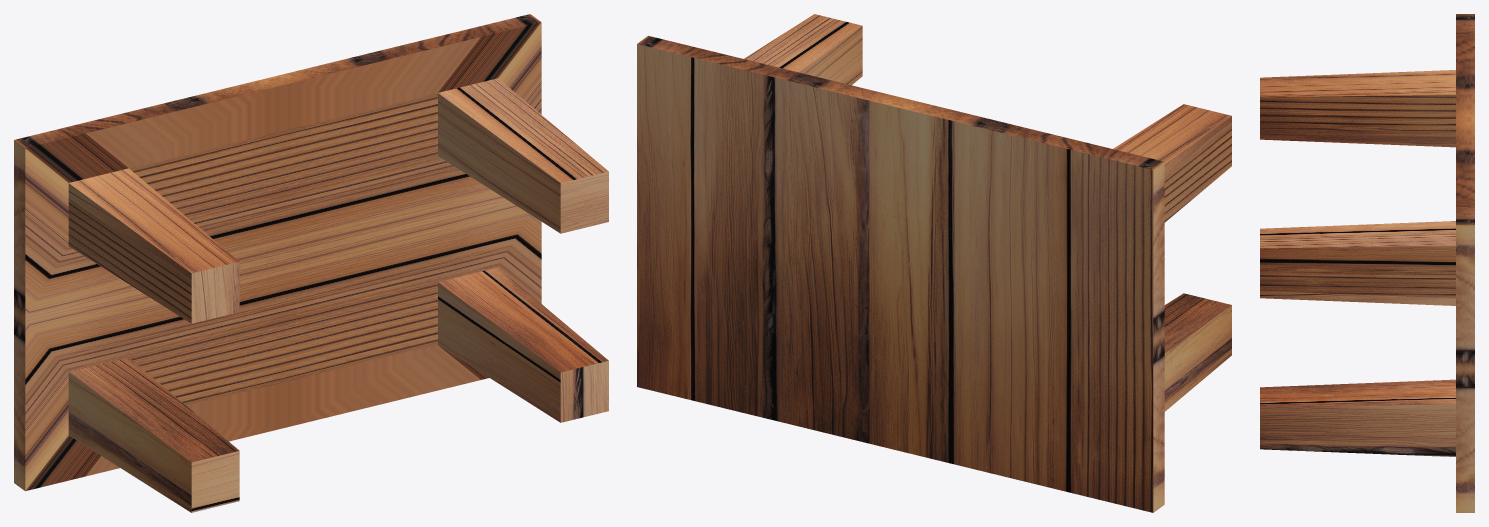
Rendered from table.dae.
3 renders of one model, left to right at view 1: azimuth 30°, elevation 25°; view 2: azimuth 150°, elevation 25°; view 3: azimuth 270°, elevation 25°, orthographic. The views are drawn at different scales.
Visible parts, largest first — view 1: Cube; view 2: Cube; view 3: Cube.
Boxes of the visible parts, box(x1,y1,x2,y2) form: Cube: box(14, 14, 608, 512); Cube: box(637, 14, 1231, 512); Cube: box(1260, 14, 1474, 512).
Size of the model in its own units: 1.03 by 0.4414 by 0.6525.
